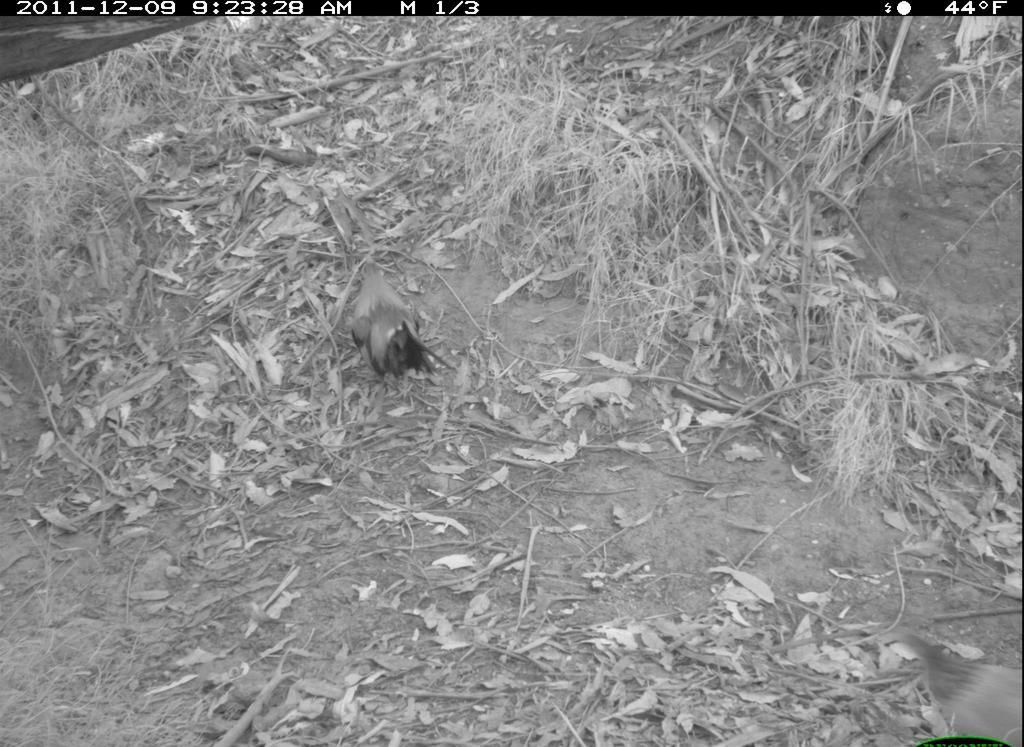bird: (342, 249, 464, 401)
